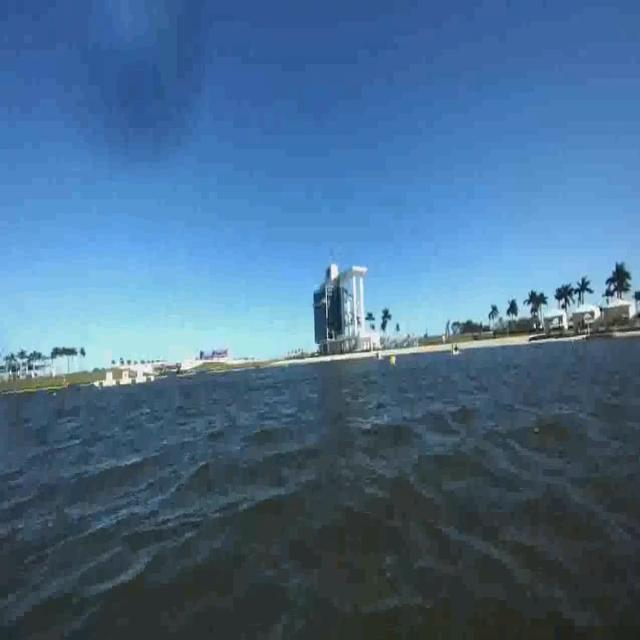yellow-buoy: (387, 354, 394, 367)
